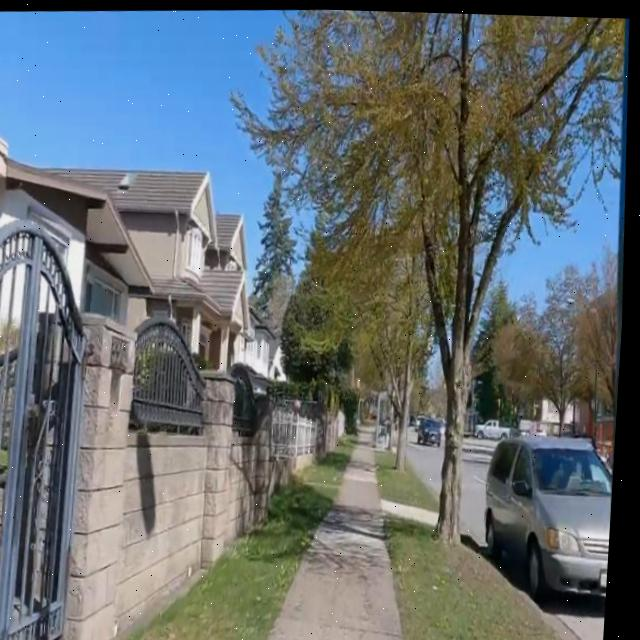Automobile: (490, 432, 616, 591), (423, 414, 448, 441), (483, 416, 515, 437)
Road: (468, 436, 501, 538), (414, 441, 447, 494)
Sidewalk: (272, 443, 409, 640)
